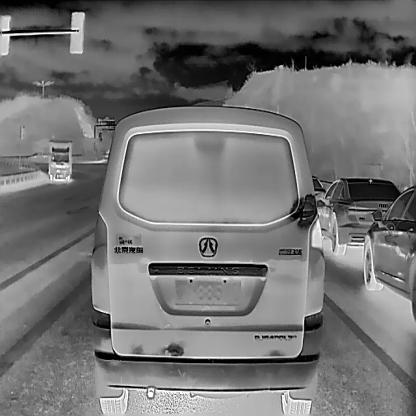car: (88, 104, 325, 413), (363, 185, 415, 323), (314, 176, 402, 257)
truck: (47, 137, 73, 182)
